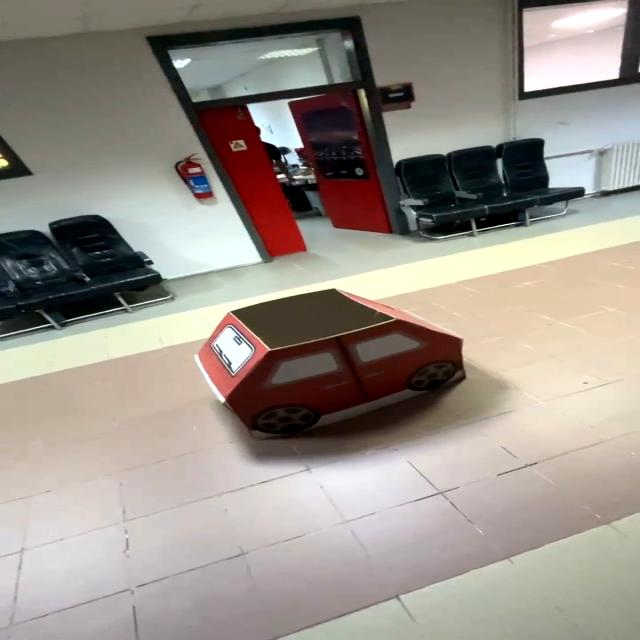red_car: (167, 284, 506, 448)
